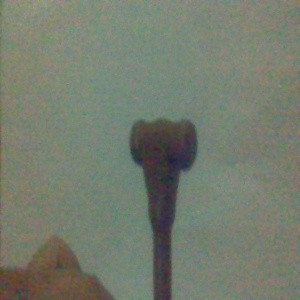palu: (129, 116, 198, 300)
